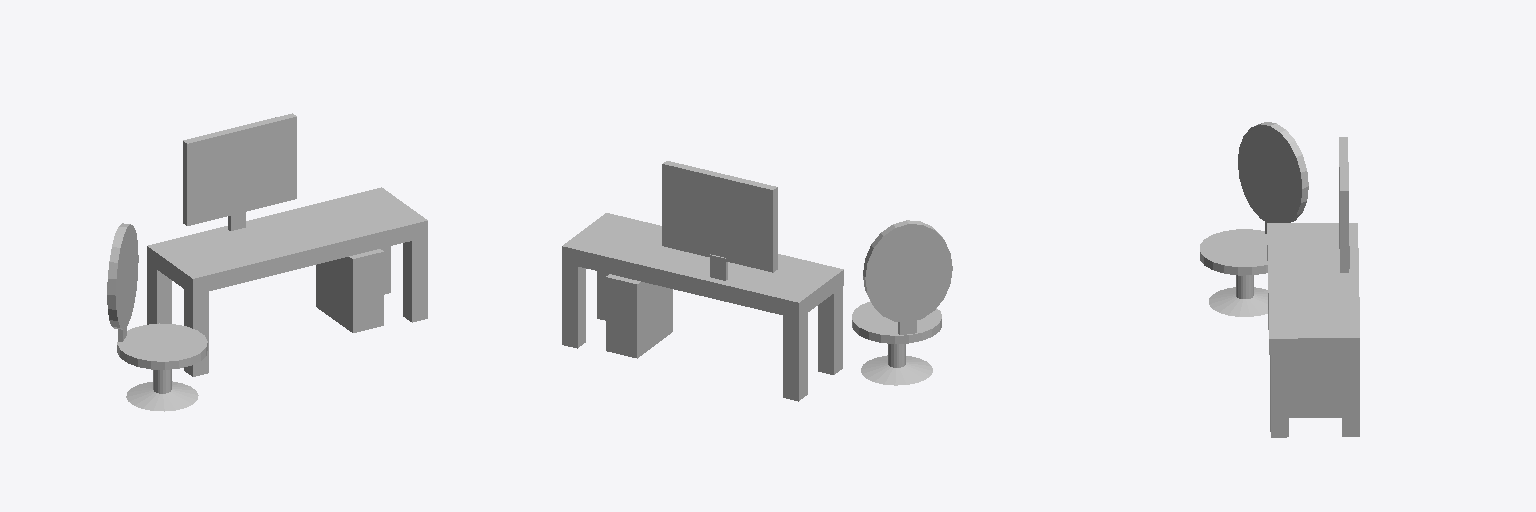
Rendered from ComDesk3.obj.
3 renders of one model, left to right at view 1: azimuth 30°, elevation 25°; view 2: azimuth 150°, elevation 25°; view 3: azimuth 270°, elevation 25°, orthographic.
Parts seen in each view (by area): view 1: pCube56; view 2: pCube56; view 3: pCube56.
Part boxes in pixels (bbox=[...]): pCube56: bbox=[107, 113, 427, 411]; pCube56: bbox=[562, 161, 952, 401]; pCube56: bbox=[1200, 122, 1359, 437].
Bounding box in the file's own units: 4.24 × 2.43 × 1.77.